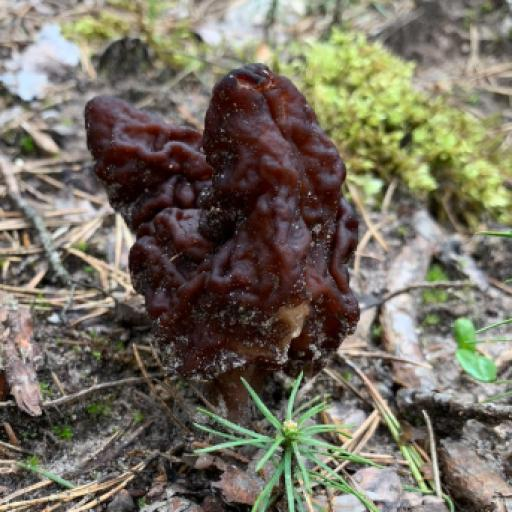mushroom: (89, 44, 377, 415)
